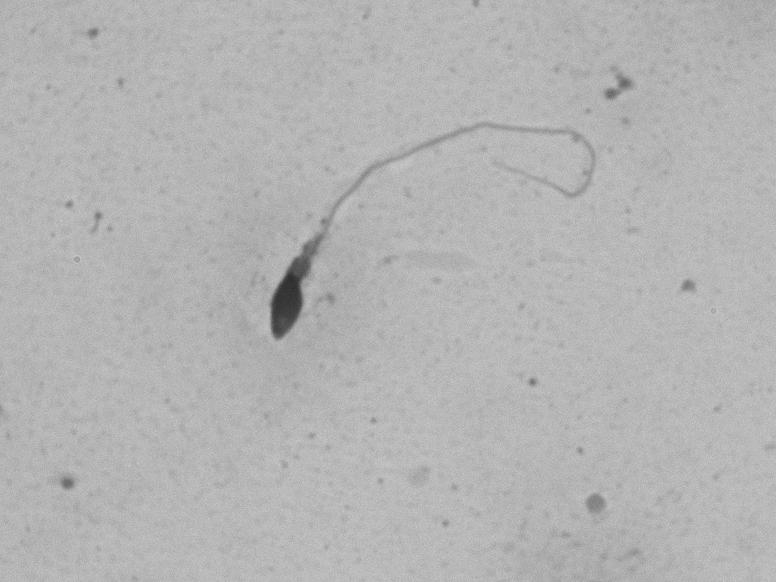Abnormal: (218, 90, 613, 397)
